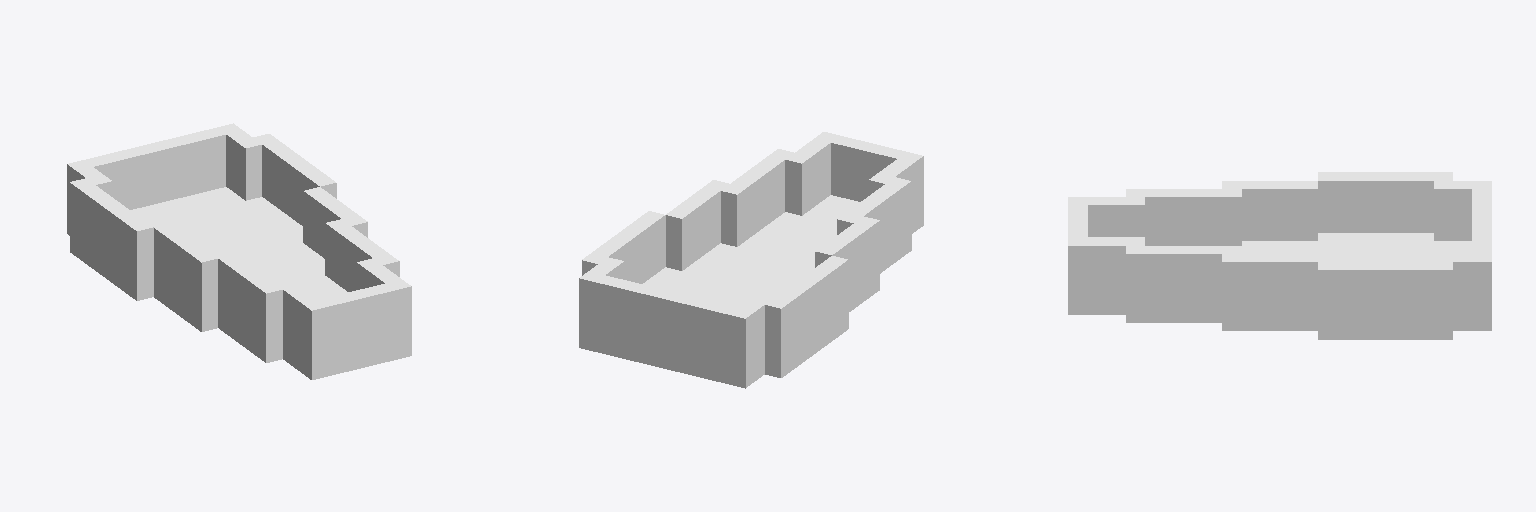
The model's file is church-55-coffin.obj.
The picture shows the model from 3 angles: view 1: azimuth 30°, elevation 25°; view 2: azimuth 150°, elevation 25°; view 3: azimuth 270°, elevation 25°; orthographic projection.
Parts seen in each view (by area): view 1: coffin; view 2: coffin; view 3: coffin.
Part boxes in pixels (bbox=[...]): coffin: bbox=[67, 123, 411, 379]; coffin: bbox=[579, 132, 923, 388]; coffin: bbox=[1068, 172, 1491, 339].
Size of the model in its own units: 1.2 by 0.4 by 2.2.